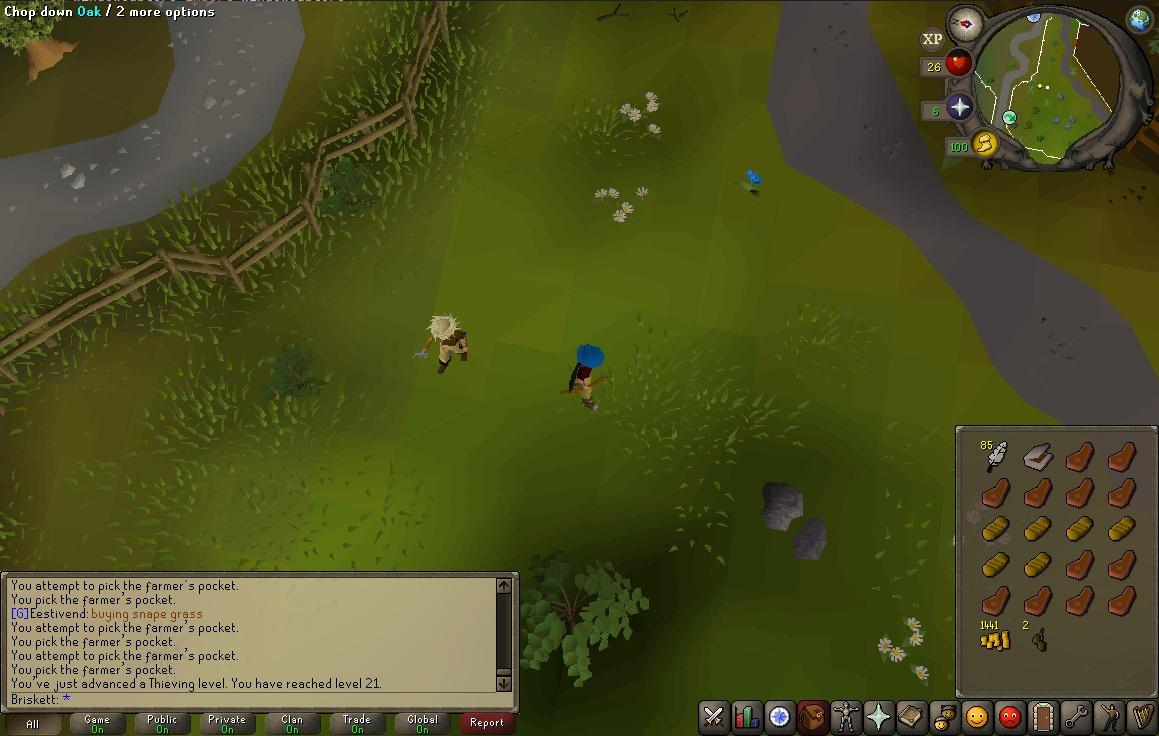Farmer: (416, 314, 470, 375)
